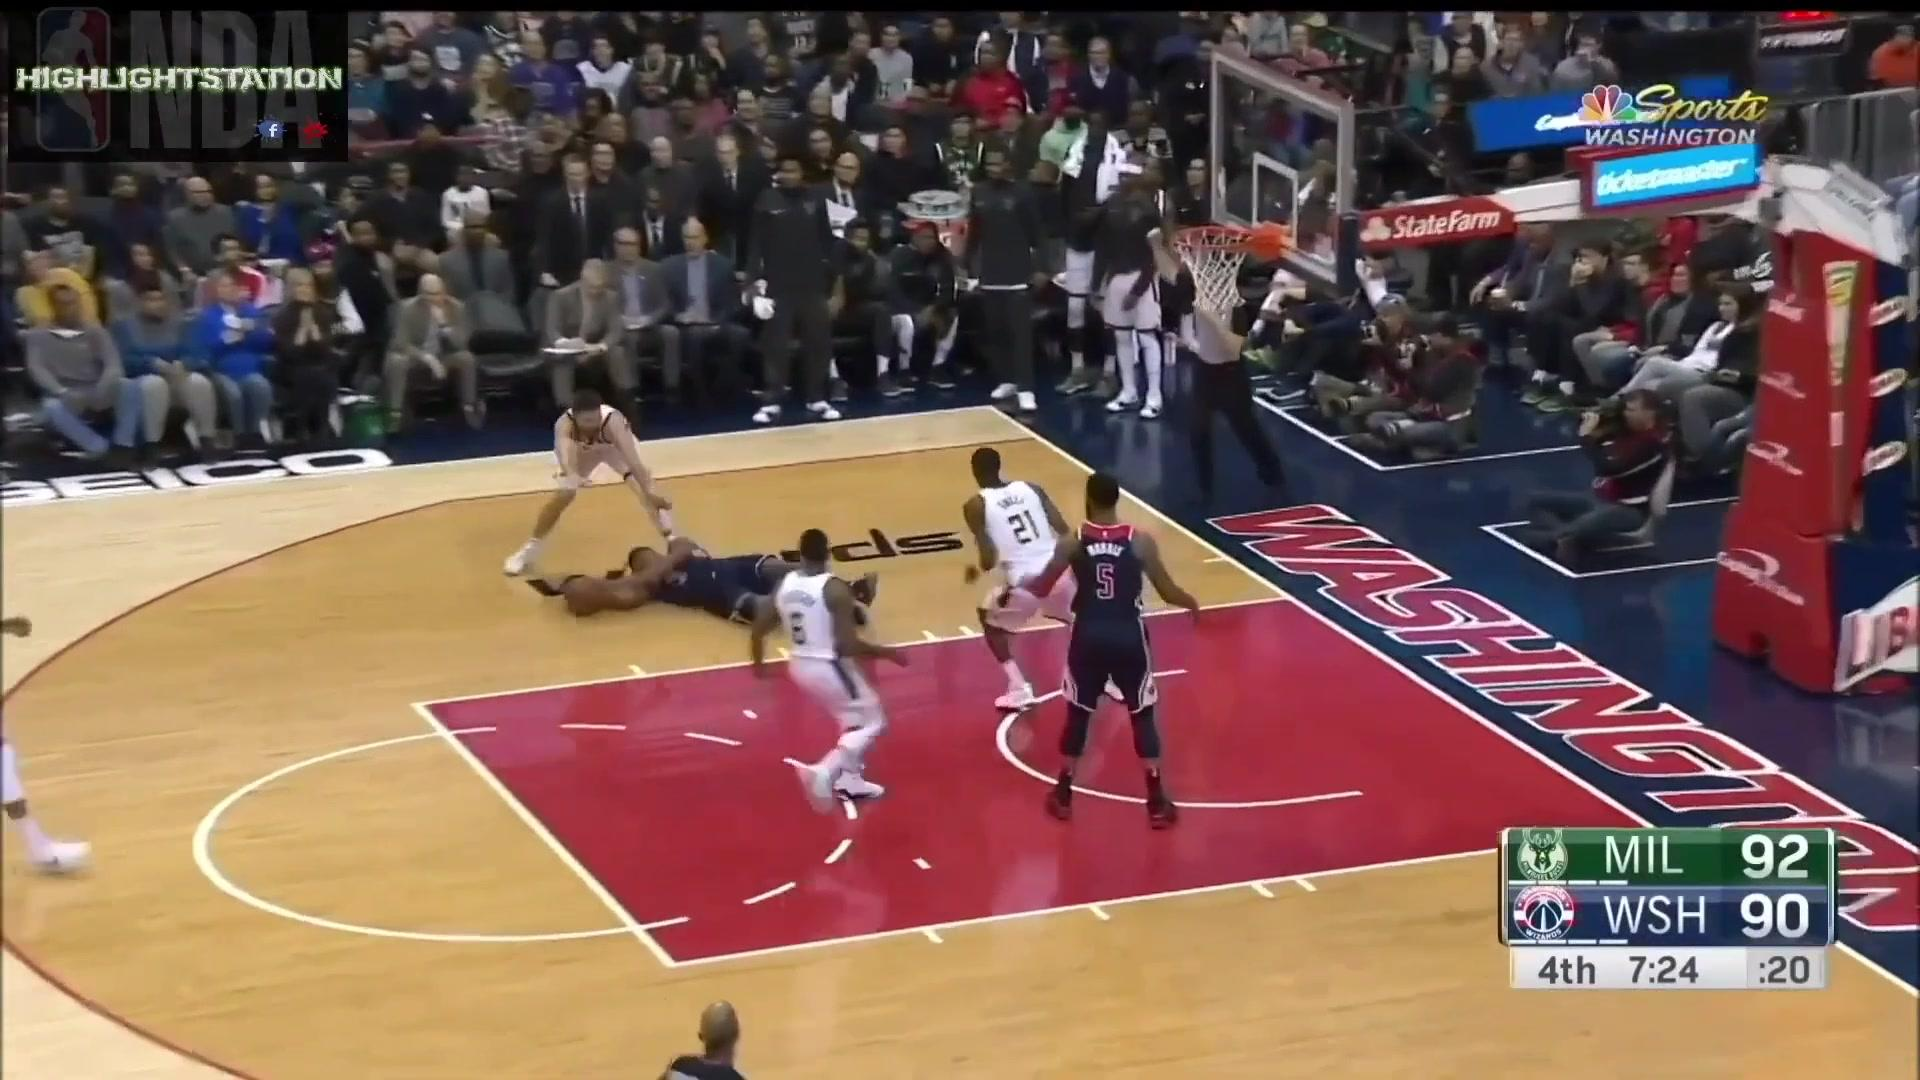no_foul: (963, 447, 1199, 808)
